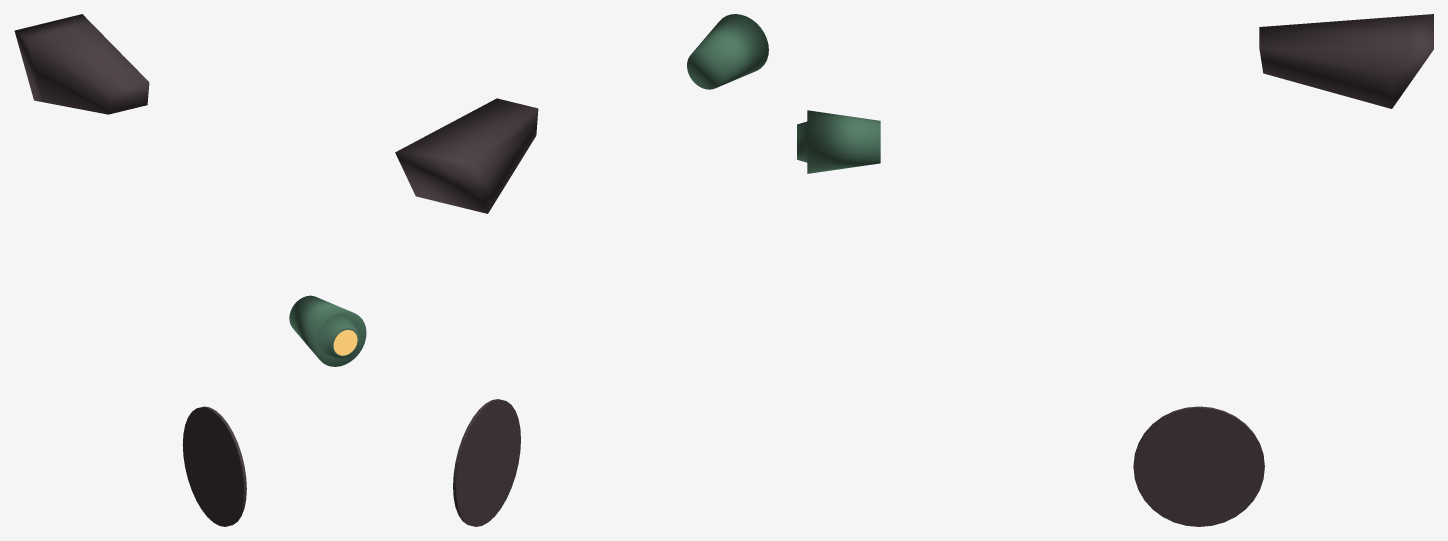
File: cycle.glb
3 renders of one model, left to right at view 1: azimuth 30°, elevation 25°; view 2: azimuth 150°, elevation 25°; view 3: azimuth 270°, elevation 25°, orthographic. The views are drawn at different scales.
Visible parts, largest first — view 1: 立方体, 円柱, 円柱.001; view 2: 立方体, 円柱, 円柱.001; view 3: 円柱, 立方体, 円柱.001.
Boxes of the visible parts, x1,y1,x2,y2 form: 立方体: [14, 14, 149, 114]; 円柱: [182, 406, 246, 526]; 円柱.001: [289, 295, 366, 366]; 立方体: [395, 98, 538, 213]; 円柱: [453, 399, 520, 526]; 円柱.001: [687, 14, 768, 89]; 円柱: [1133, 406, 1264, 526]; 立方体: [1259, 14, 1433, 108]; 円柱.001: [797, 110, 880, 173].
Bounding box in the file's own units: 0.319 × 1.43 × 1.78.
